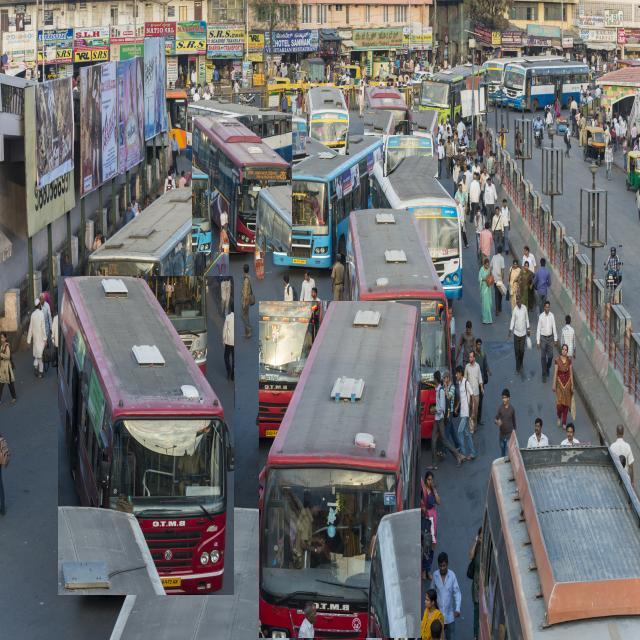autorickshaw: (583, 126, 606, 165), (626, 151, 640, 191)
bus: (59, 277, 234, 595), (259, 301, 421, 638), (85, 187, 229, 375), (346, 210, 450, 438), (271, 135, 388, 268), (192, 116, 292, 252), (372, 157, 462, 300), (186, 99, 310, 163), (504, 56, 589, 111), (384, 110, 438, 177), (419, 64, 471, 125), (306, 86, 349, 155), (365, 86, 413, 135)
motorcycle: (604, 246, 622, 303), (534, 116, 544, 148)
